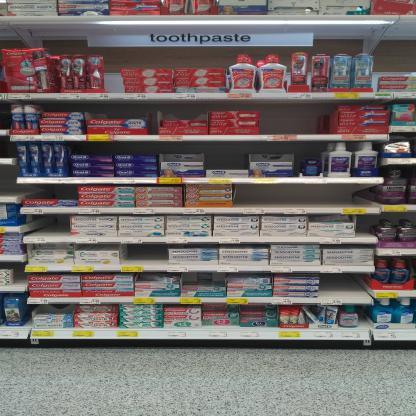Void: (231, 185, 376, 208), (261, 104, 334, 134), (208, 144, 249, 167), (29, 212, 68, 236), (327, 274, 373, 294), (25, 184, 78, 199), (88, 102, 144, 116), (127, 246, 168, 263), (105, 56, 124, 91)
